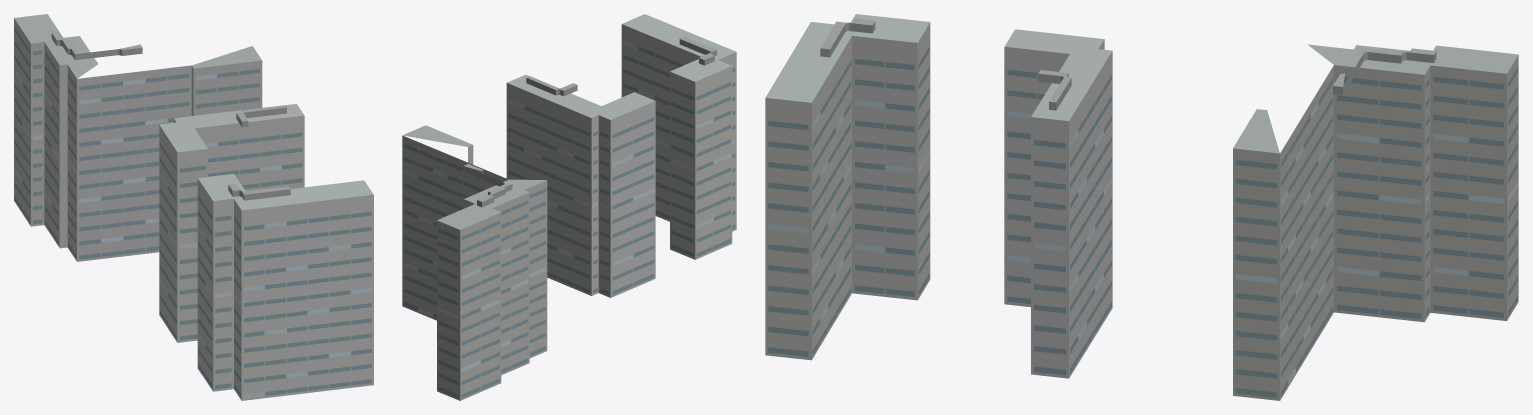
Rendered from apt-a13922105.glb.
3 renders of one model, left to right at view 1: azimuth 30°, elevation 25°; view 2: azimuth 150°, elevation 25°; view 3: azimuth 270°, elevation 25°, orthographic. The views are drawn at different scales.
Visible parts, largest first — view 1: apt-a13922105; view 2: apt-a13922105; view 3: apt-a13922105.
Part boxes in pixels (<box>): apt-a13922105: <box>14,14,373,400</box>; apt-a13922105: <box>402,14,736,400</box>; apt-a13922105: <box>765,14,1518,400</box>.
Bounding box in the file's own units: 82.61 × 79 × 203.
